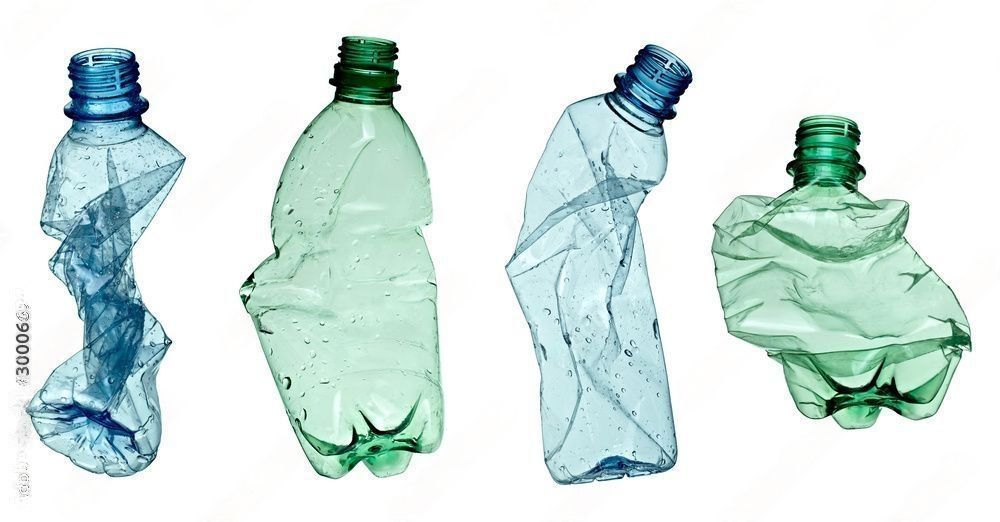plastic_bottle: (239, 33, 446, 481), (713, 114, 974, 433), (505, 41, 692, 484)
